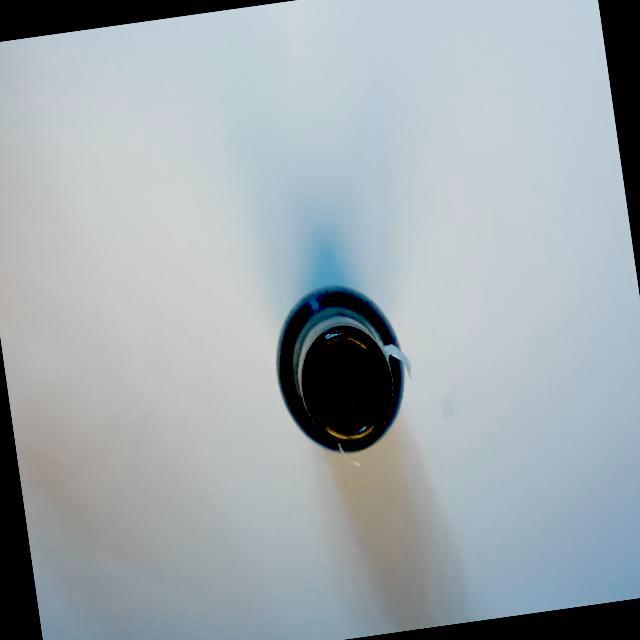glass: (200, 240, 463, 520)
